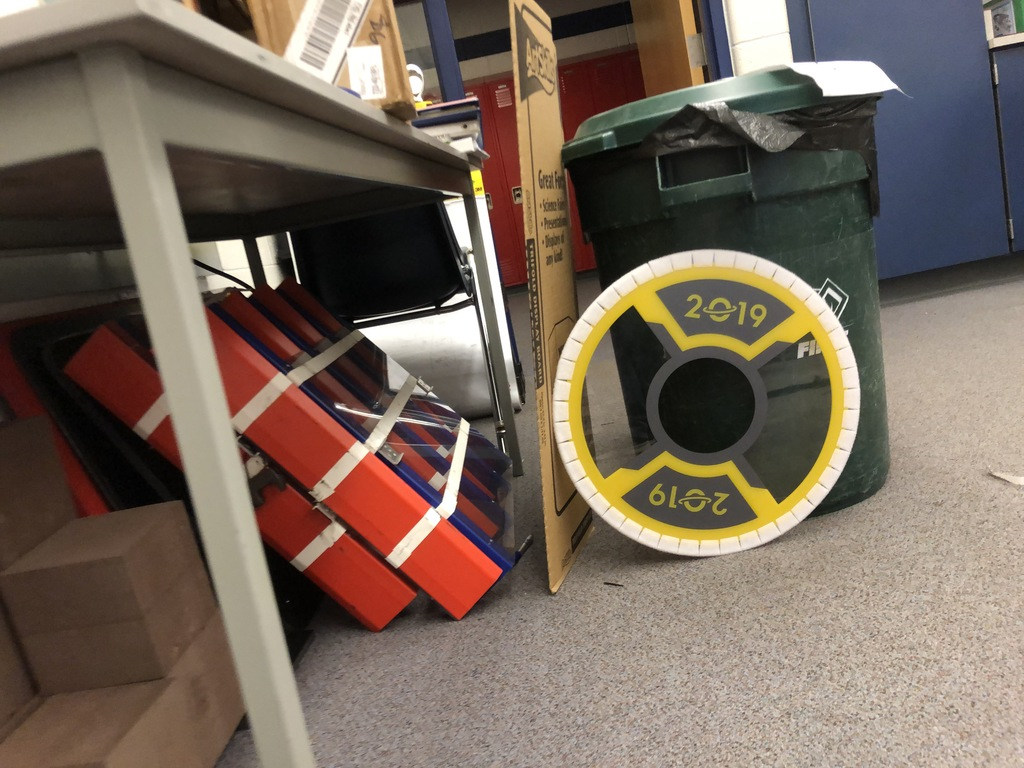hatch_panel: (538, 236, 883, 564)
